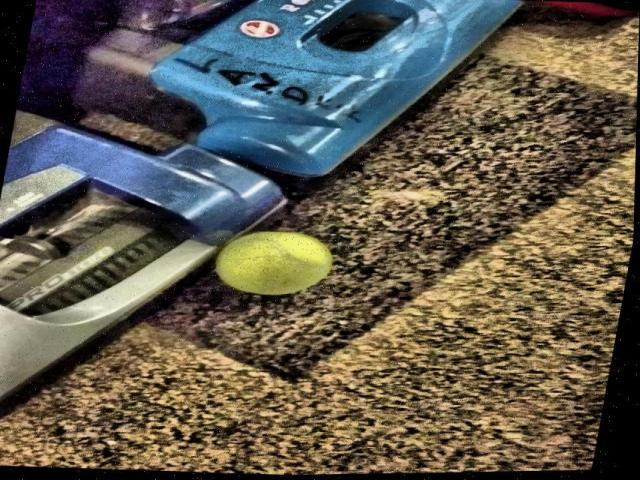tennis-ball: (216, 229, 333, 294)
